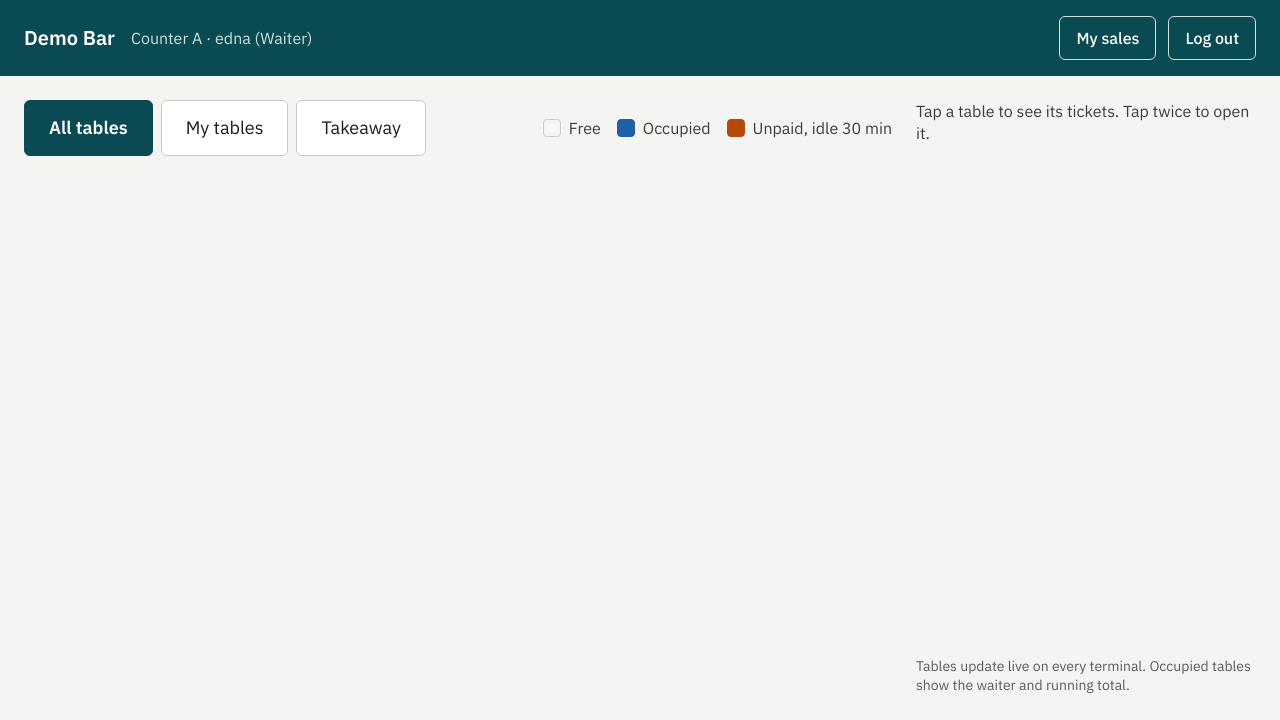
Test case: end of a session › Log out ends the session on the server and returns to the PIN pad
Click the button "Log out" at (1212, 38), box x1=1168 y1=16 x2=1256 y2=60
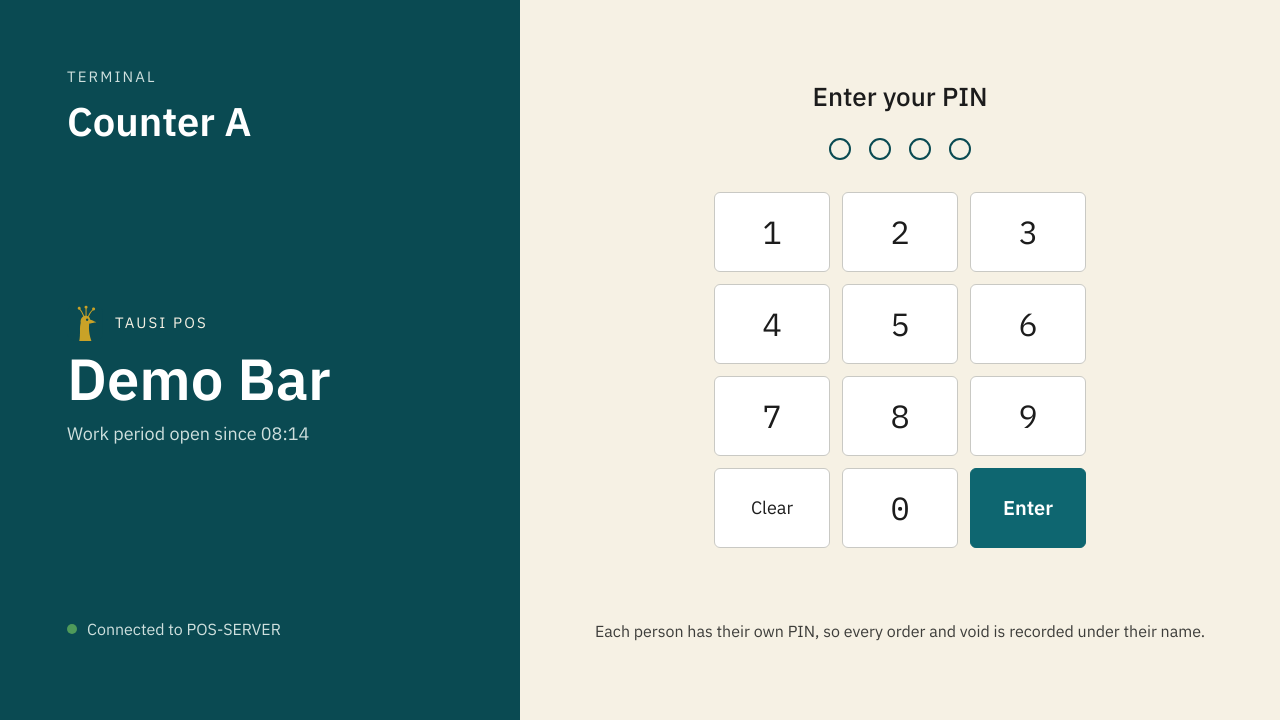
Check: the heading "Enter your PIN" is shown, box x1=812 y1=78 x2=988 y2=114
Check: the text "edna" is gone
